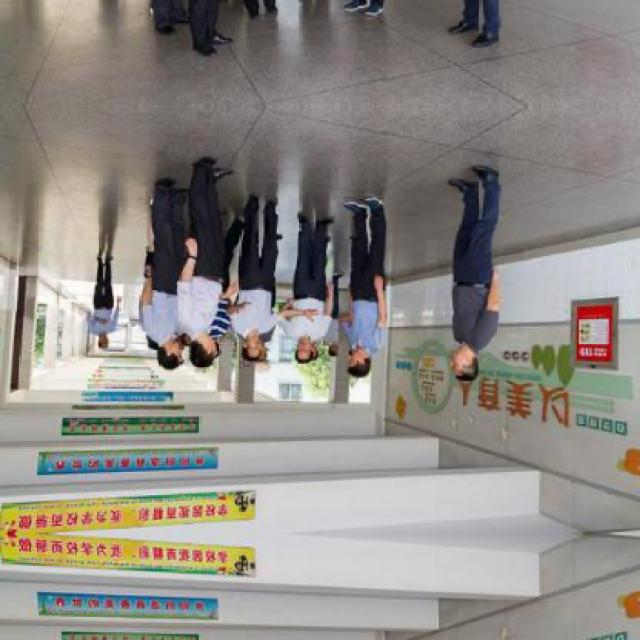sin casco: (150, 344, 203, 375), (442, 354, 474, 396), (186, 338, 222, 370), (338, 351, 376, 379), (274, 339, 320, 362), (229, 342, 268, 360), (80, 330, 116, 348)
